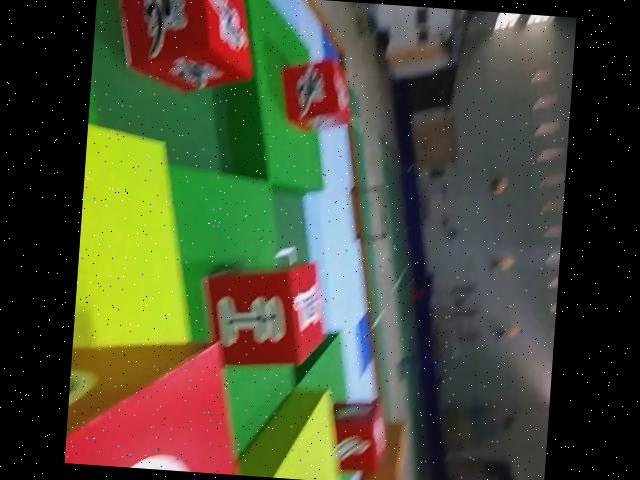R1: (102, 0, 260, 93), (280, 55, 358, 133)
R2 Fake: (199, 251, 333, 373)
R2 Real: (64, 325, 267, 476), (323, 396, 393, 477)
